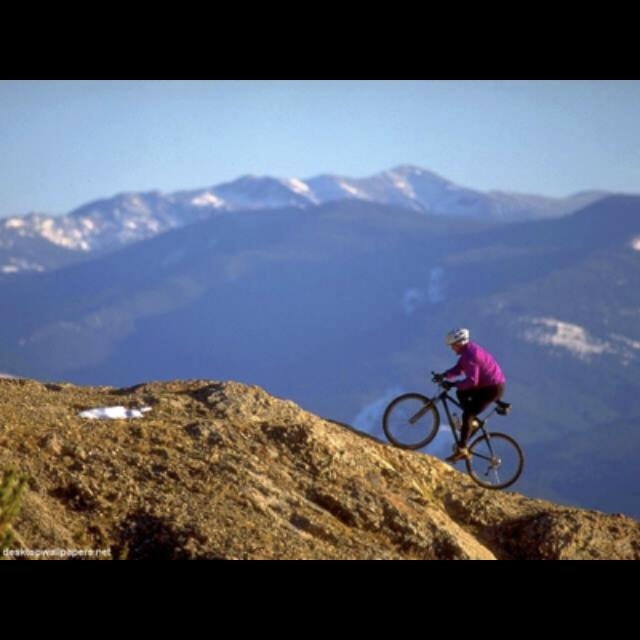With Helmet: (444, 326, 471, 354)
